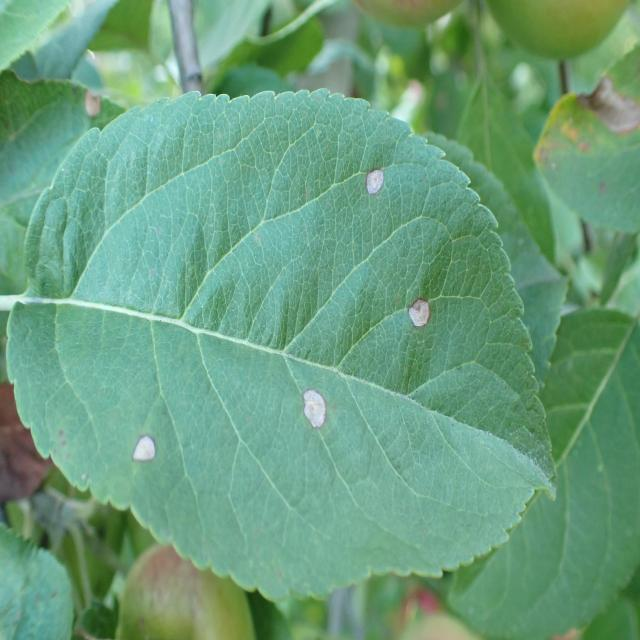Black Rot: (128, 426, 178, 500), (293, 378, 331, 454), (360, 157, 388, 210), (404, 288, 430, 337), (67, 85, 68, 87)
